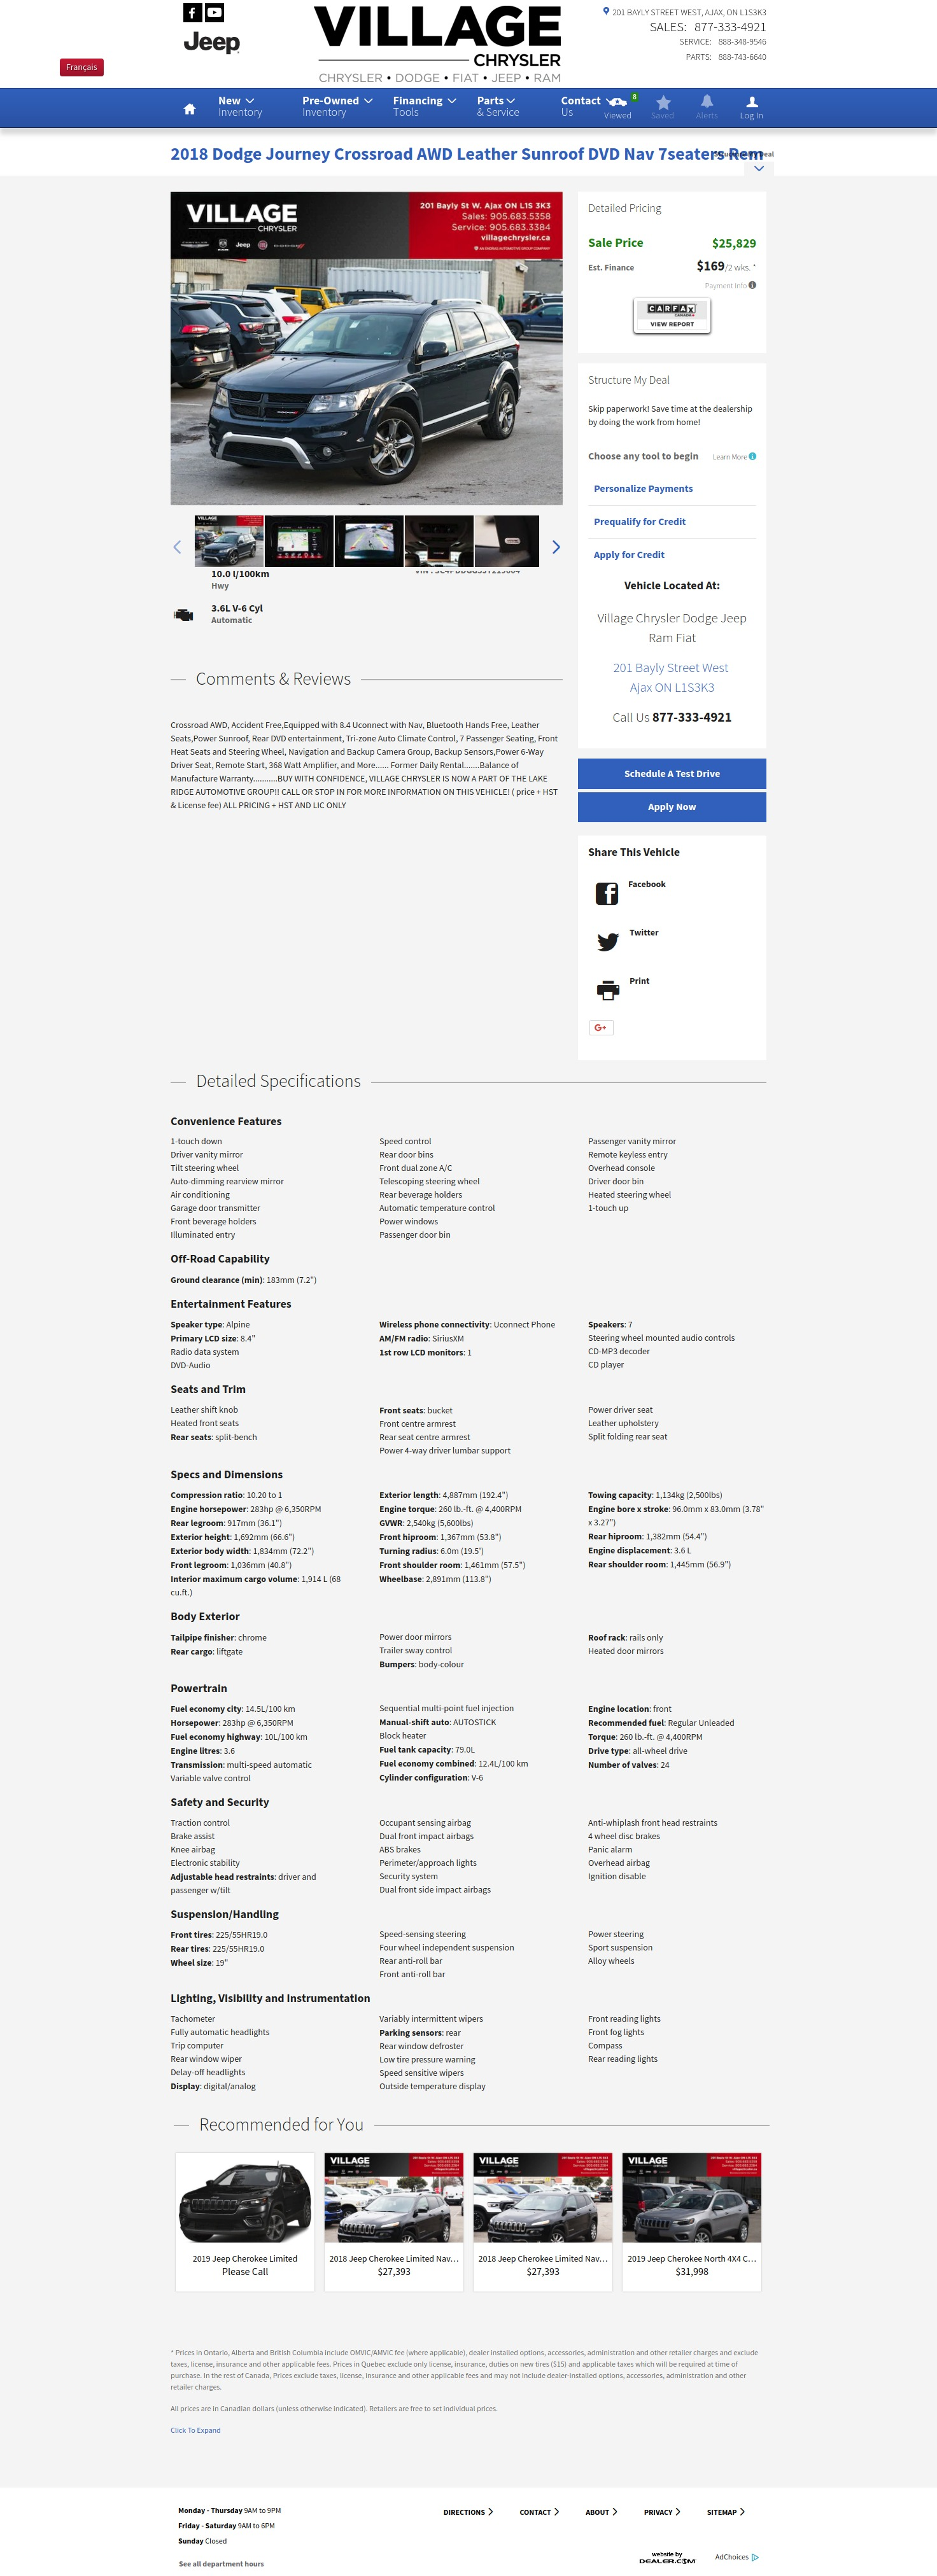car: (552, 539, 561, 555)
